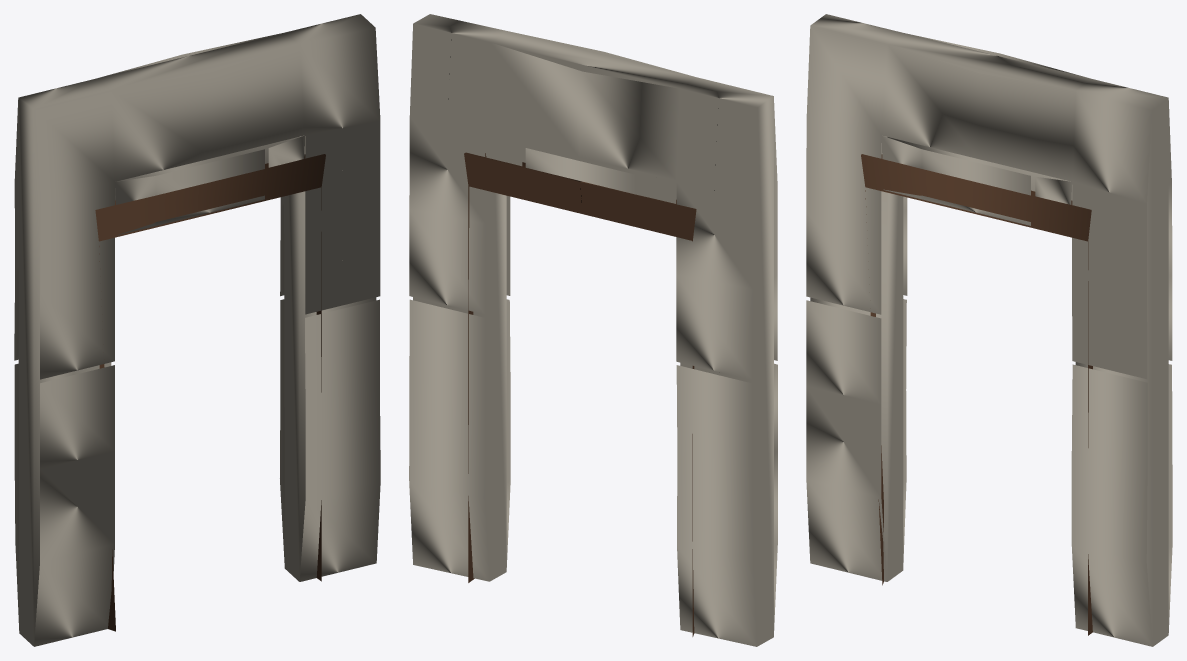
The model's file is wall_stone_door_lod1.glb.
3 views of the same model, side by side, from view 1: azimuth 30°, elevation 25°; view 2: azimuth 150°, elevation 25°; view 3: azimuth 330°, elevation 25° (orthographic).
Bounding box in the file's own units: 2 × 3 × 0.28.
